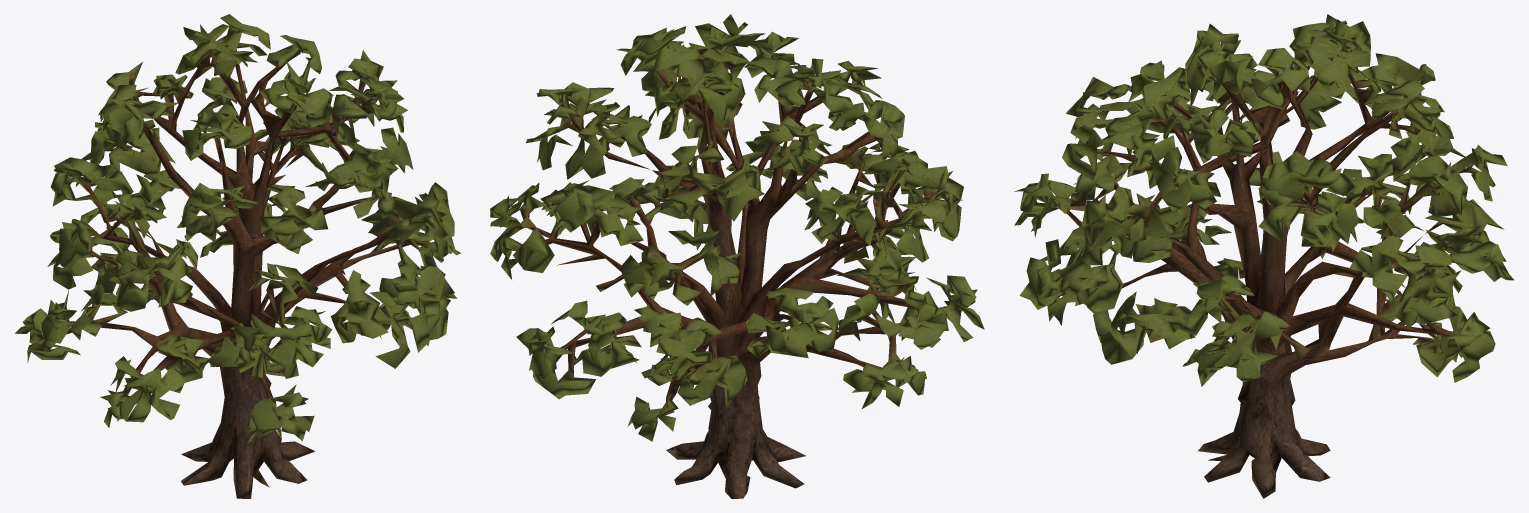
File: tree_oak.glb
3 views of the same model, side by side, from view 1: azimuth 30°, elevation 25°; view 2: azimuth 150°, elevation 25°; view 3: azimuth 270°, elevation 25° (orthographic). The views are drawn at different scales.
Size of the model in its own units: 0.9627 by 0.9682 by 1.
Materials: 1 (1 with a texture image).
